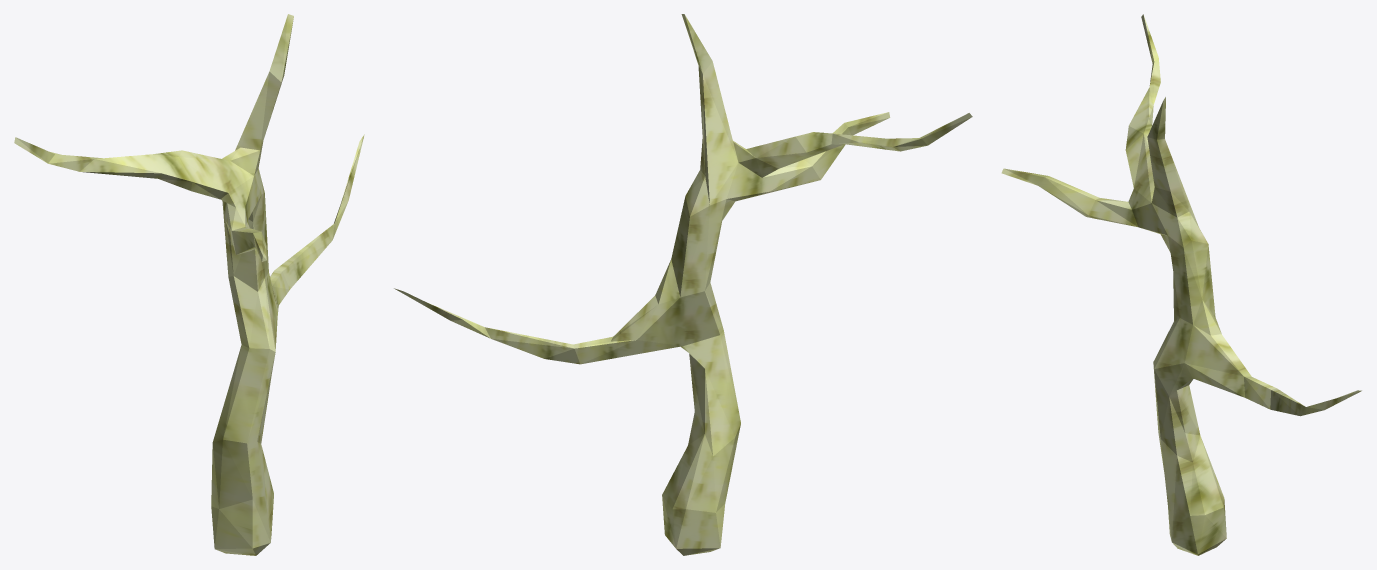
File: Island_2_BigTree_4.gltf
3 renders of one model, left to right at view 1: azimuth 30°, elevation 25°; view 2: azimuth 150°, elevation 25°; view 3: azimuth 270°, elevation 25°, orthographic. The views are drawn at different scales.
Parts seen in each view (by area): view 1: Island_2_BigTree_4; view 2: Island_2_BigTree_4; view 3: Island_2_BigTree_4.
Boxes of the visible parts, box(x1,y1,x2,y2) form: Island_2_BigTree_4: box(14, 14, 364, 555); Island_2_BigTree_4: box(394, 14, 972, 555); Island_2_BigTree_4: box(1001, 14, 1361, 555).
Bounding box in the file's own units: 40.06 × 43.2 × 30.52.
Materials: 1 (1 with a texture image).
